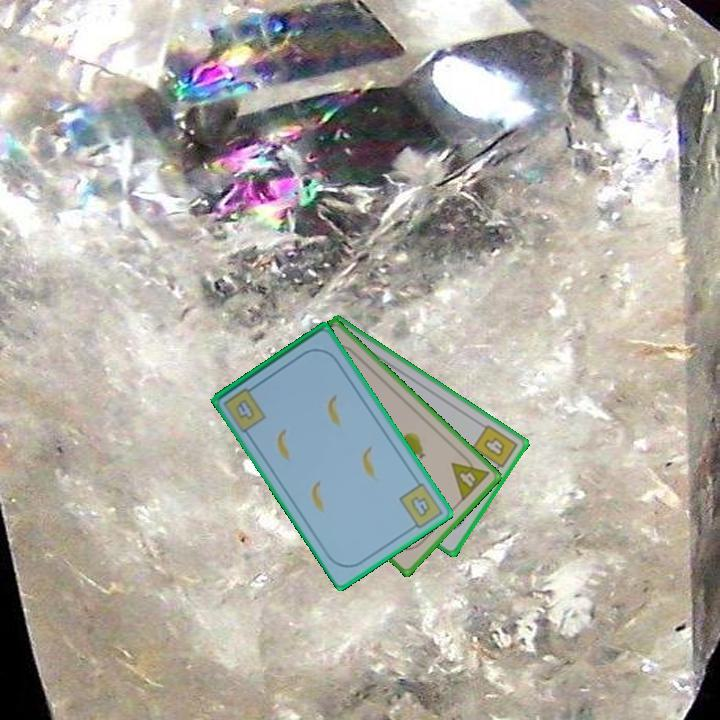4b: (469, 421, 521, 476), (395, 479, 446, 534), (232, 395, 258, 423)
4p: (448, 449, 493, 504)
